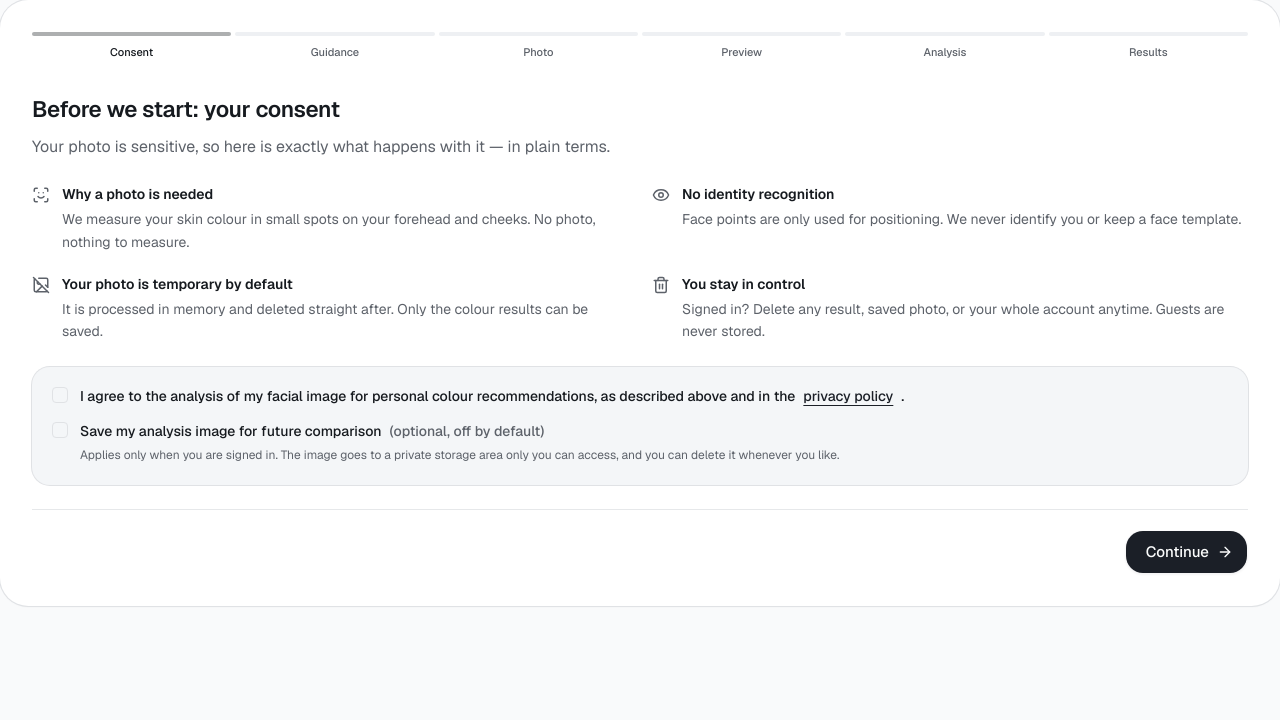
Test case: Consent step › blocks continuing until consent is given
Click the button "Continue": (1186, 552) [1125, 530, 1248, 574]
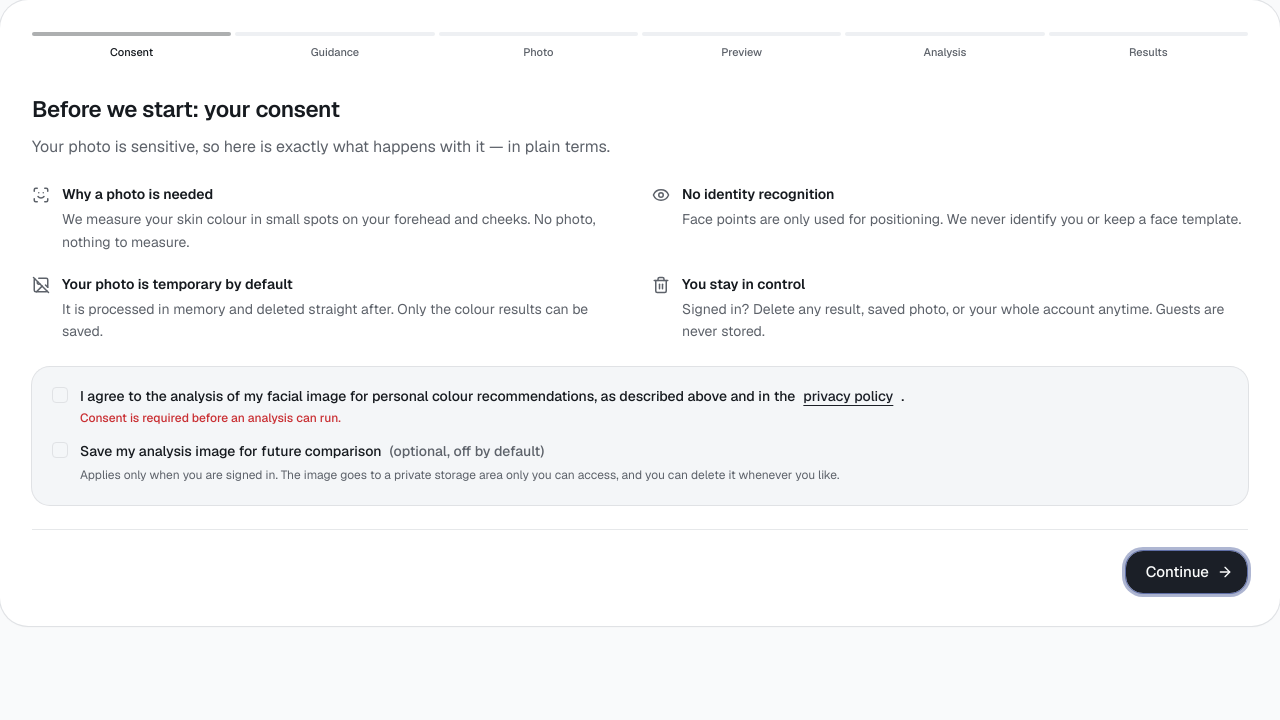
Expected: the heading "Before we start: your consent" is shown, [32, 94, 340, 124]
Expected: the text "Consent is required before an analysis can run." is shown, [80, 410, 341, 426]
